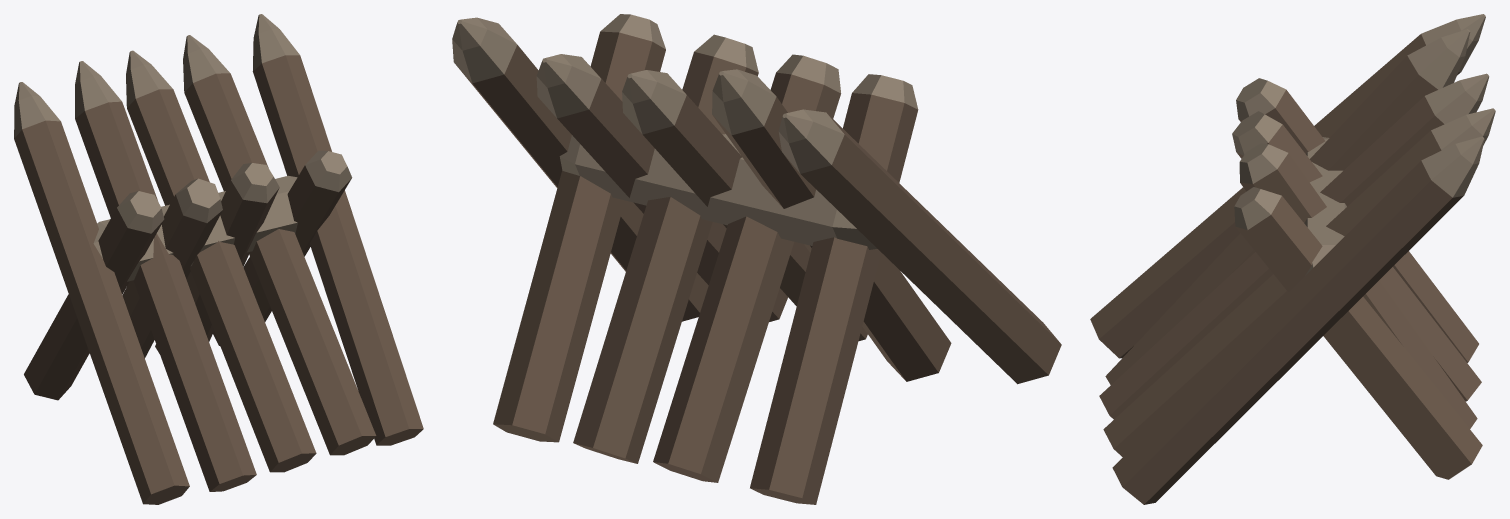
The model's file is spikes.glb.
3 renders of one model, left to right at view 1: azimuth 30°, elevation 25°; view 2: azimuth 150°, elevation 25°; view 3: azimuth 270°, elevation 25°, orthographic. The views are drawn at different scales.
Parts seen in each view (by area): view 1: Spikes.688; view 2: Spikes.688; view 3: Spikes.688.
Boxes of the visible parts, bbox=[...] form: Spikes.688: bbox=[14, 14, 423, 504]; Spikes.688: bbox=[452, 14, 1061, 504]; Spikes.688: bbox=[1090, 14, 1495, 504].
Bounding box in the file's own units: 0.0625 × 0.0673 × 0.0653.
